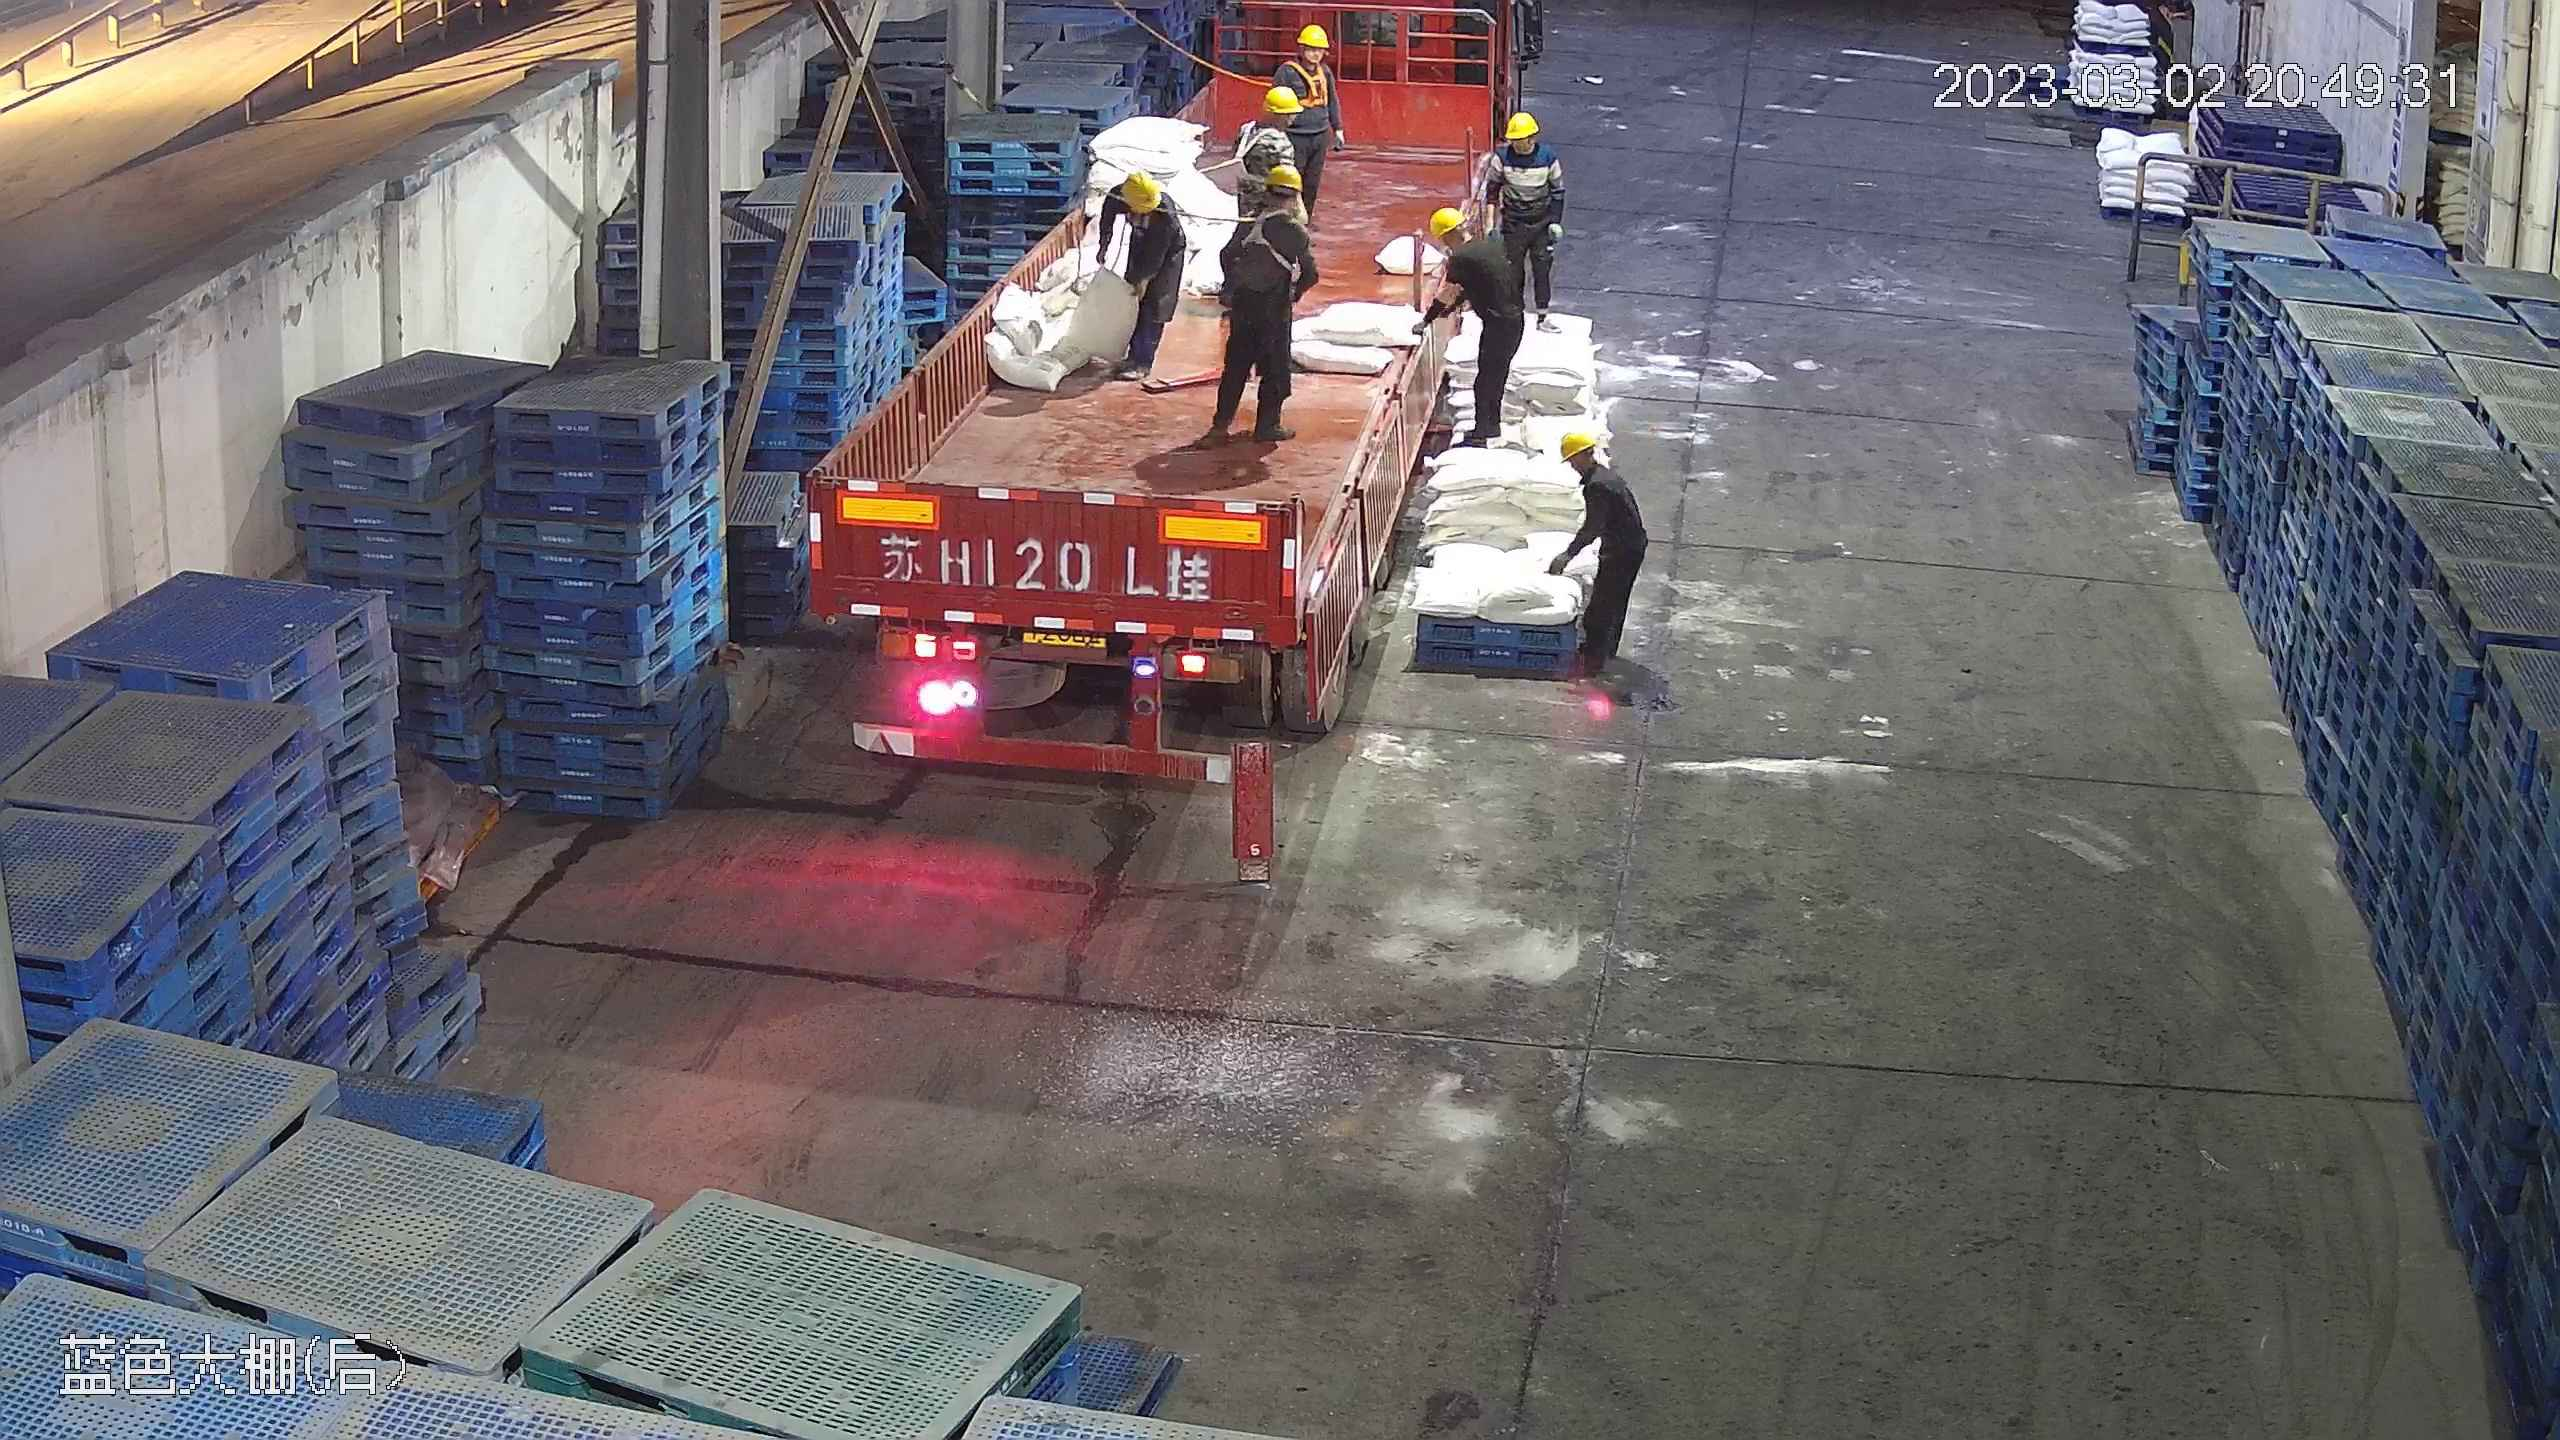belt: (1229, 200, 1299, 270), (1227, 119, 1286, 184), (1277, 58, 1332, 114), (1122, 200, 1152, 229)
head: (1557, 429, 1637, 521), (1426, 206, 1507, 291), (1231, 160, 1308, 245), (1486, 110, 1561, 187), (1229, 84, 1303, 155), (1103, 170, 1178, 234), (1274, 20, 1334, 82)
helmet: (1255, 160, 1304, 197), (1117, 169, 1158, 211), (1429, 205, 1468, 240), (1261, 85, 1303, 115), (1503, 110, 1540, 142), (1559, 431, 1599, 461), (1294, 20, 1329, 44)
people: (1196, 161, 1314, 442), (1423, 204, 1527, 451), (1551, 429, 1649, 679), (1091, 168, 1188, 378), (1481, 109, 1567, 343), (1227, 51, 1320, 249), (1249, 21, 1339, 201)
truck: (799, 40, 1513, 779)
